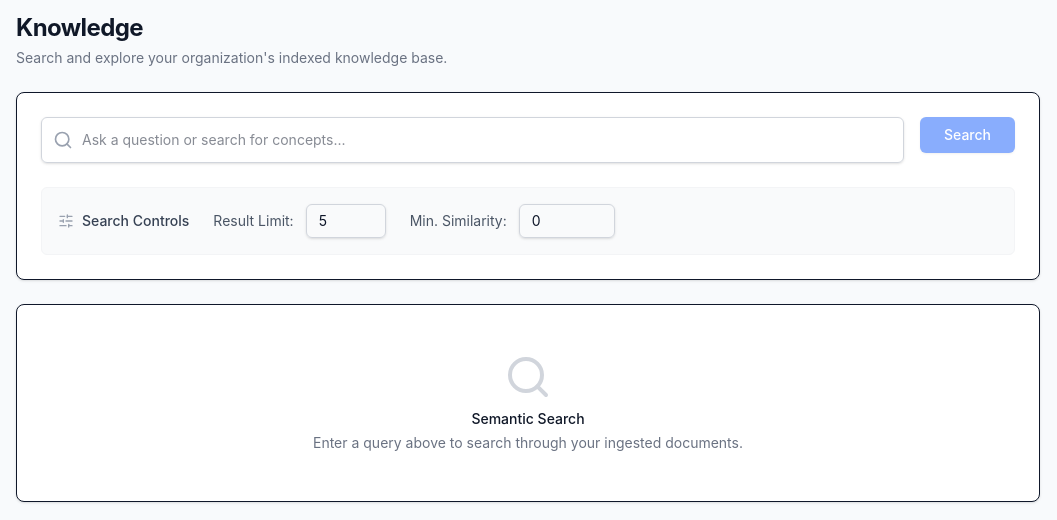
Scenario: Knowledge Page Search Controls & Grouping › handles API error state properly
Type "test query" into the field with placeholder "Ask a question or search for concepts..." at (472, 140), box 41,117 -> 904,163
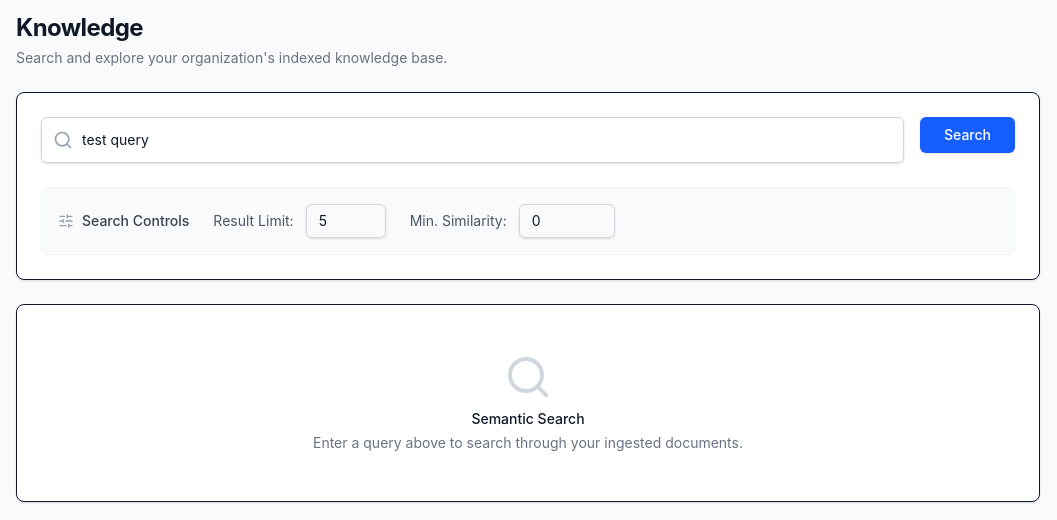
Press Enter in the field with placeholder "Ask a question or search for concepts...", box 41,117 -> 904,163
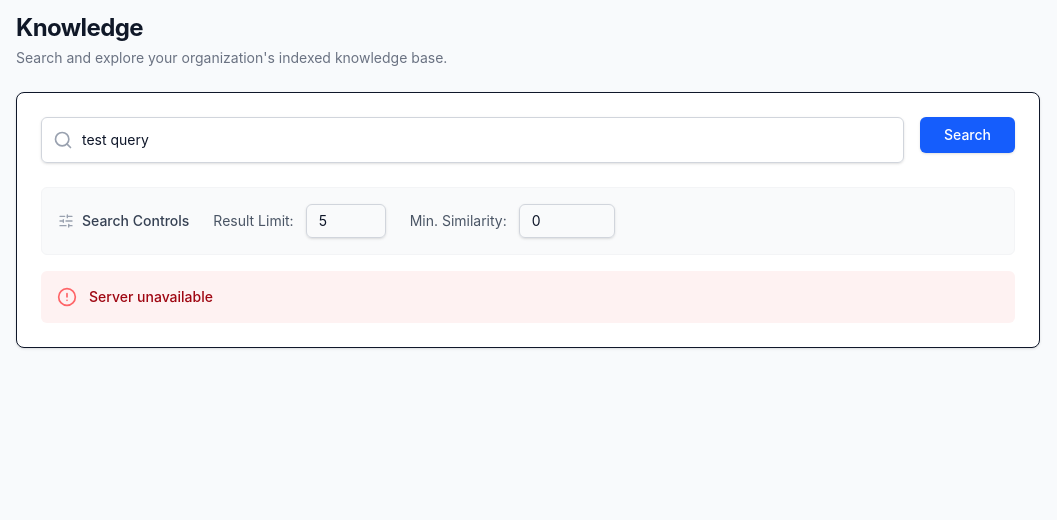
Expected: the heading "Server unavailable" is shown, 89,287 -> 213,307
